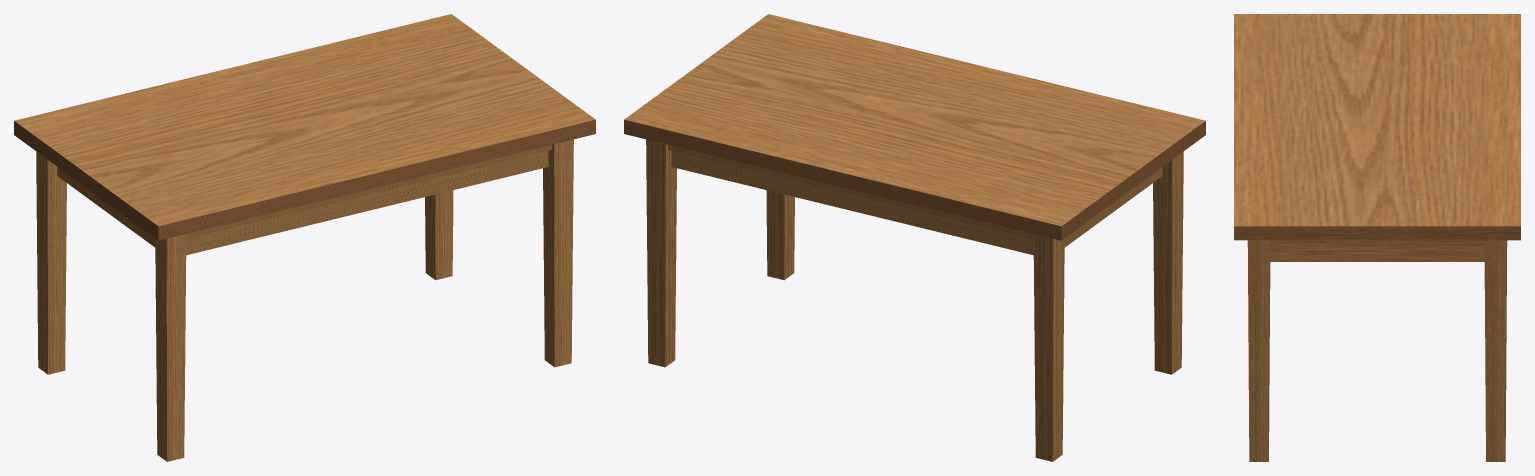
File: table.glb
The picture shows the model from 3 angles, left to right: view 1: azimuth 30°, elevation 25°; view 2: azimuth 150°, elevation 25°; view 3: azimuth 270°, elevation 25°; orthographic projection.
Visible parts, largest first — view 1: core_table; view 2: core_table; view 3: core_table.
Boxes of the visible parts, x1,y1,x2,y2 form: core_table: (14, 14, 595, 461); core_table: (624, 14, 1205, 461); core_table: (1234, 14, 1520, 461).
Size of the model in its own units: 1.4 by 0.75 by 0.8.
1 material, 1 textured.
